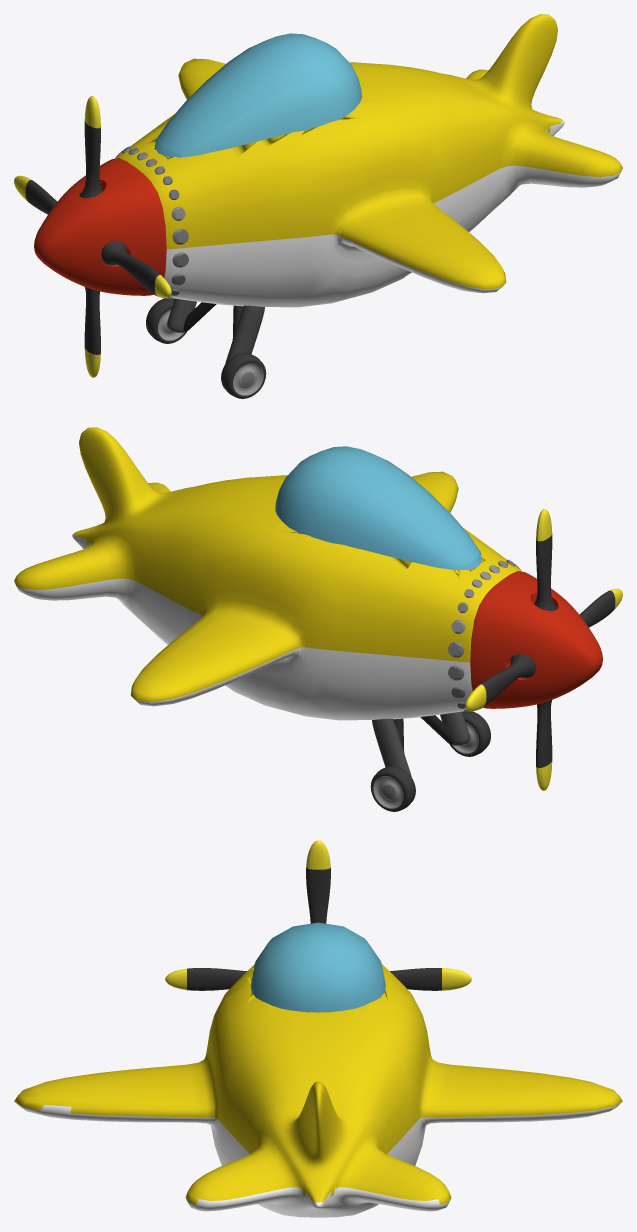
Rendered from styloo-plancestylized-001.glb.
3 views of the same model, one above another, from view 1: azimuth 30°, elevation 25°; view 2: azimuth 150°, elevation 25°; view 3: azimuth 270°, elevation 25° (orthographic).
Visible parts, largest first — view 1: Cube.031, Cube.032, Cube.034, Cylinder.004; view 2: Cube.031, Cube.032, Cube.034, Cylinder.004; view 3: Cube.031, Cube.034, Cube.032.
Boxes of the visible parts, x1,y1,x2,y2 form: Cube.031: (115,14,622,363); Cube.032: (14,96,171,377); Cube.034: (154,33,361,157); Cylinder.004: (146,298,266,398); Cube.031: (14,427,521,776); Cube.032: (465,509,622,790); Cube.034: (275,446,482,570); Cylinder.004: (370,711,490,811); Cube.031: (14,964,622,1217); Cube.034: (250,922,385,1012); Cube.032: (165,840,471,990).
Size of the model in its own units: 4.38 by 2.43 by 4.43.
Materials: 1 (1 with a texture image).
